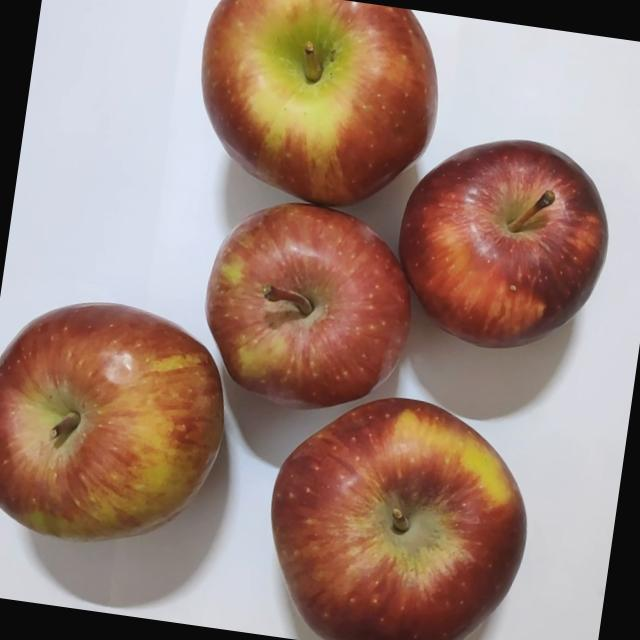apple: (246, 382, 546, 640), (0, 288, 247, 578), (172, 0, 458, 236), (178, 190, 433, 441), (376, 123, 624, 381)
